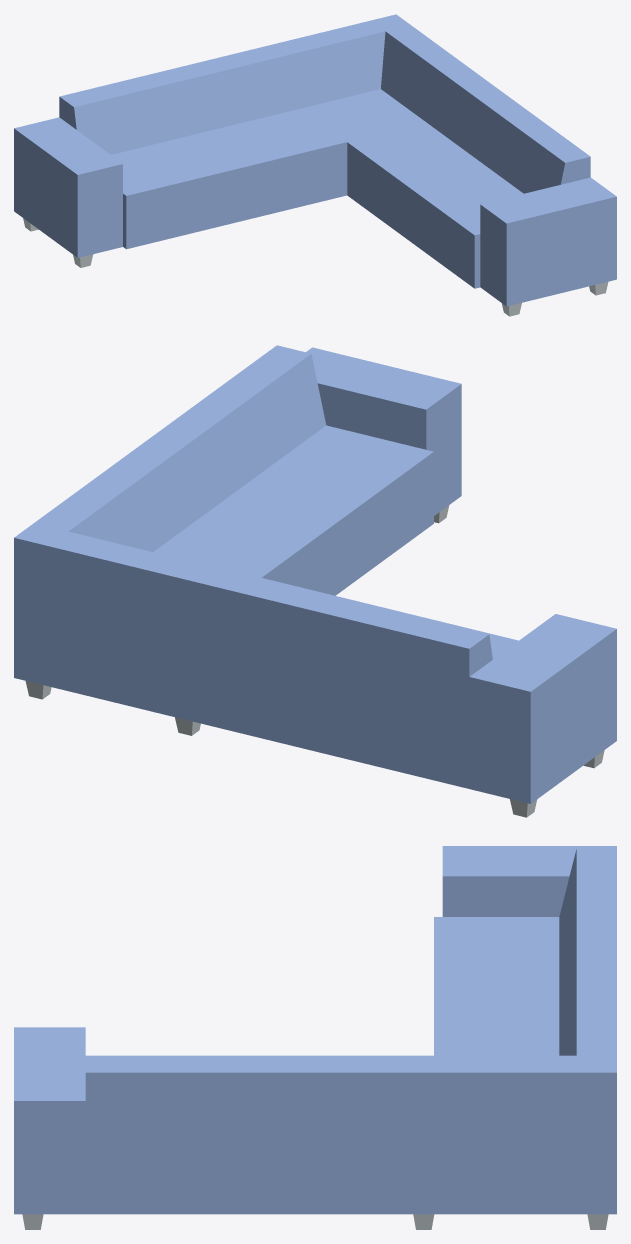
The model's file is loungeDesignSofaCorner.glb.
3 views of the same model, one above another, from view 1: azimuth 30°, elevation 25°; view 2: azimuth 150°, elevation 25°; view 3: azimuth 270°, elevation 25° (orthographic). The views are drawn at different scales.
Visible parts, largest first — view 1: loungeDesignSofaCorner(Clone); view 2: loungeDesignSofaCorner(Clone); view 3: loungeDesignSofaCorner(Clone).
Part boxes in pixels (x1,y1,x2,y2): loungeDesignSofaCorner(Clone): (14,14,616,316); loungeDesignSofaCorner(Clone): (14,345,616,817); loungeDesignSofaCorner(Clone): (14,846,616,1229).
Size of the model in its own units: 2.74 by 0.812 by 2.74.
Materials: 2 (2 with a texture image).
